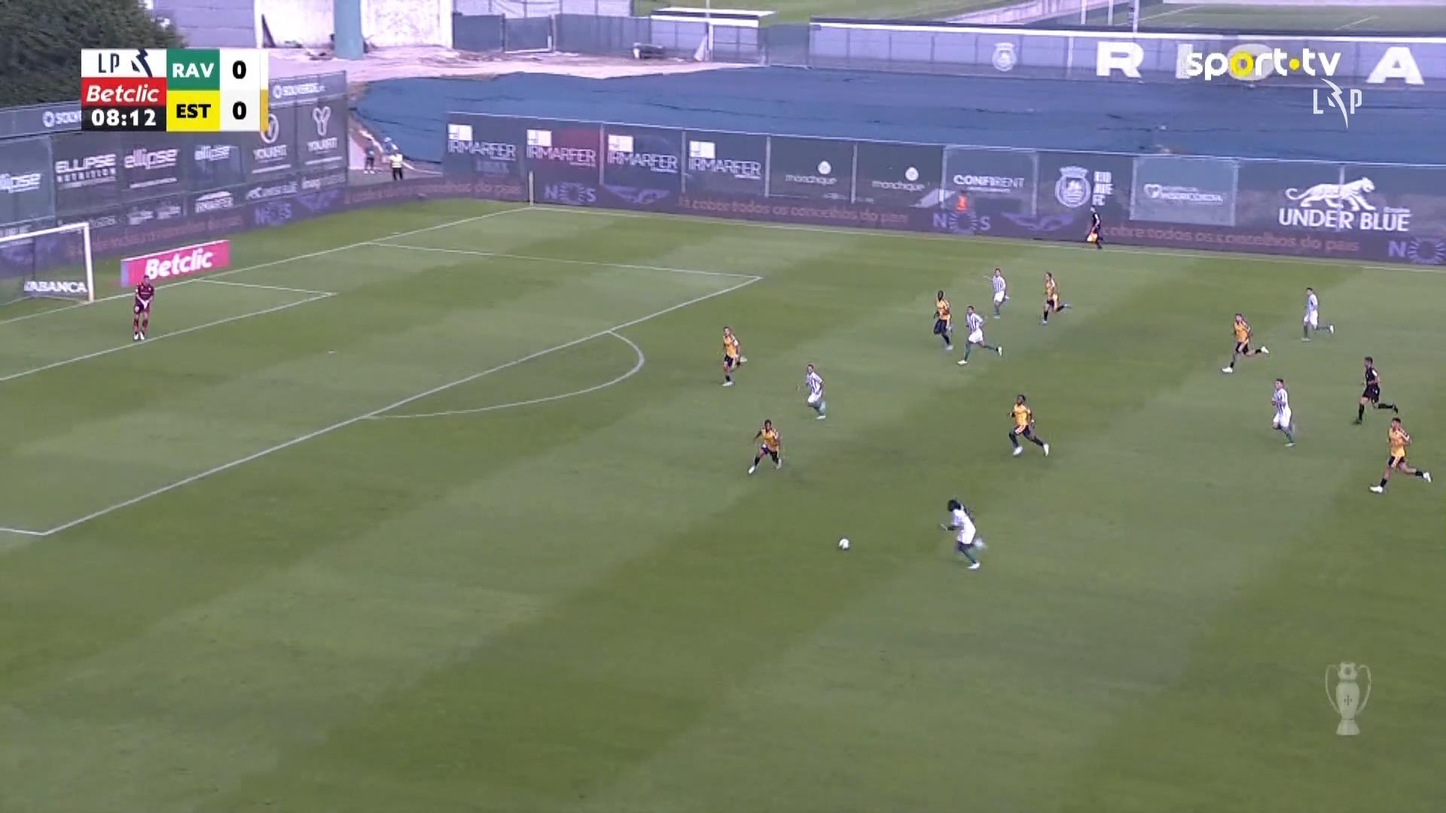ball: (837, 537, 849, 550)
goalkeeper: (131, 274, 154, 341)
player: (1368, 416, 1432, 493), (938, 498, 985, 569), (1221, 311, 1269, 373), (956, 303, 1002, 365), (1006, 393, 1050, 457), (746, 419, 782, 474), (1300, 285, 1334, 342), (1270, 377, 1295, 446), (1039, 270, 1070, 325), (720, 324, 743, 386), (931, 289, 954, 351), (802, 362, 826, 419), (986, 266, 1009, 318), (389, 149, 404, 180), (362, 145, 376, 173)
referee: (1353, 355, 1398, 424), (1084, 205, 1104, 249)
